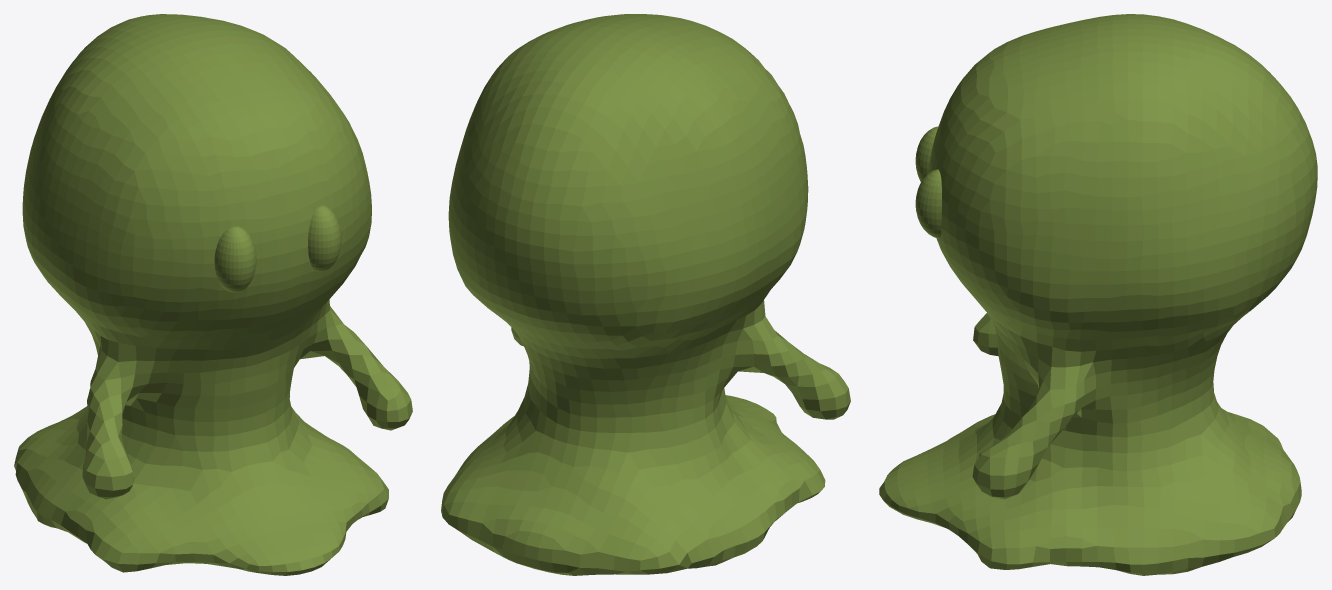
The model's file is Lvl1Slime.fbx.
The picture shows the model from 3 angles, left to right: view 1: azimuth 30°, elevation 25°; view 2: azimuth 150°, elevation 25°; view 3: azimuth 270°, elevation 25°; orthographic projection. The views are drawn at different scales.
Visible parts, largest first — view 1: ZBrush_defualt_group; view 2: ZBrush_defualt_group; view 3: ZBrush_defualt_group.
Part boxes in pixels (left/top/right/bottom): ZBrush_defualt_group: left=14, top=14, right=412, bottom=575; ZBrush_defualt_group: left=441, top=14, right=850, bottom=575; ZBrush_defualt_group: left=879, top=14, right=1317, bottom=575.
Bounding box in the file's own units: 3.11 × 4.3 × 3.55.
